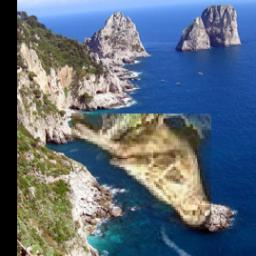Sparrow: (72, 114, 212, 229)
